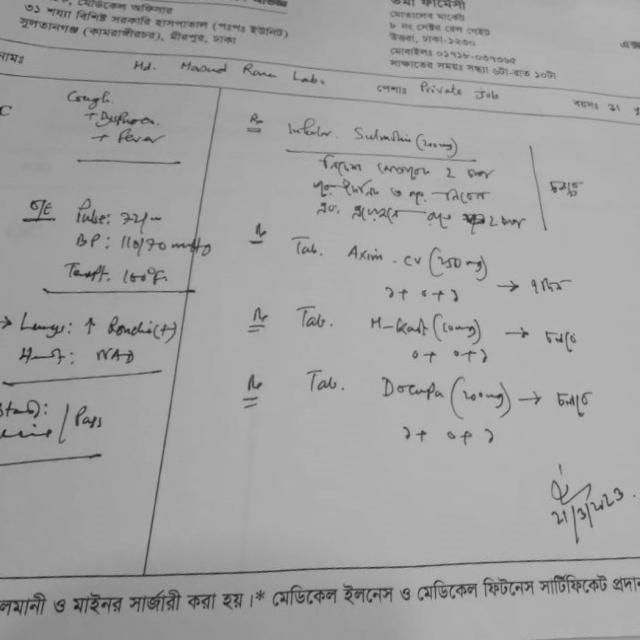medicine: (344, 240, 427, 272), (378, 373, 447, 409), (365, 308, 435, 339), (349, 120, 416, 152)
